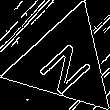N_NE: (32, 31, 97, 94)
